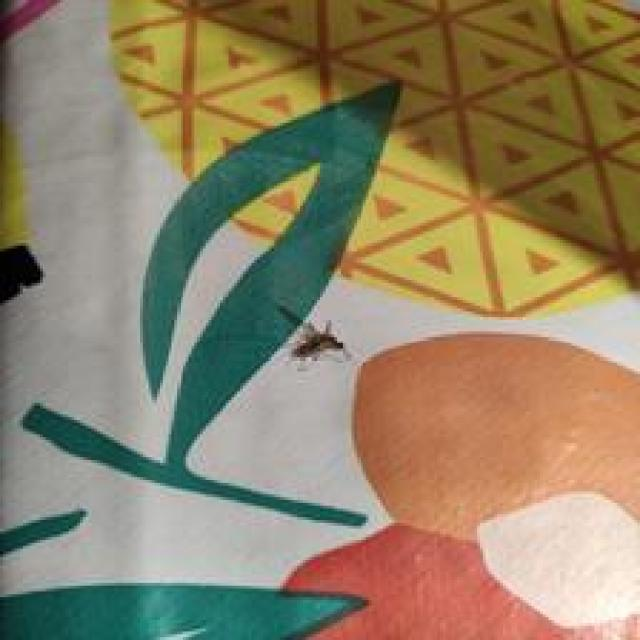Culex: (19, 76, 404, 530)
